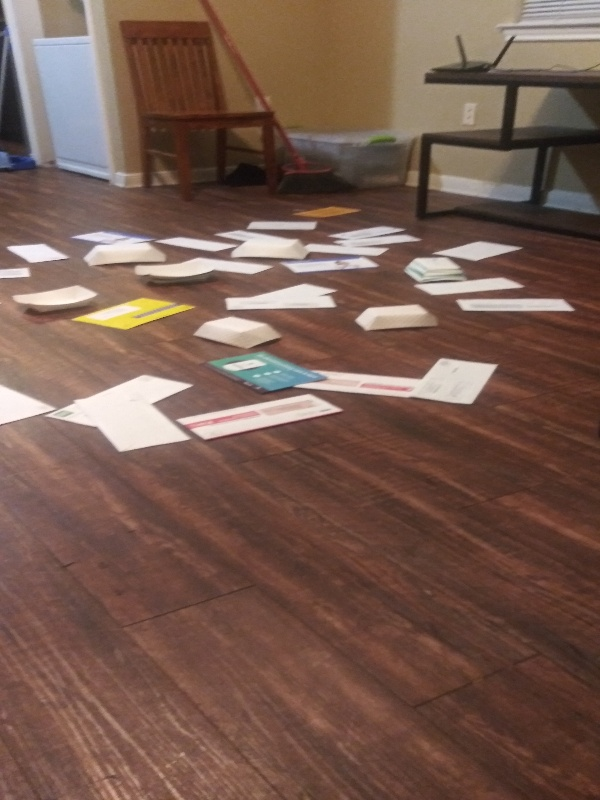plate: (184, 316, 287, 353), (9, 280, 101, 320), (349, 301, 442, 336), (130, 256, 224, 287), (81, 239, 168, 271), (400, 253, 474, 286), (228, 235, 312, 264)
